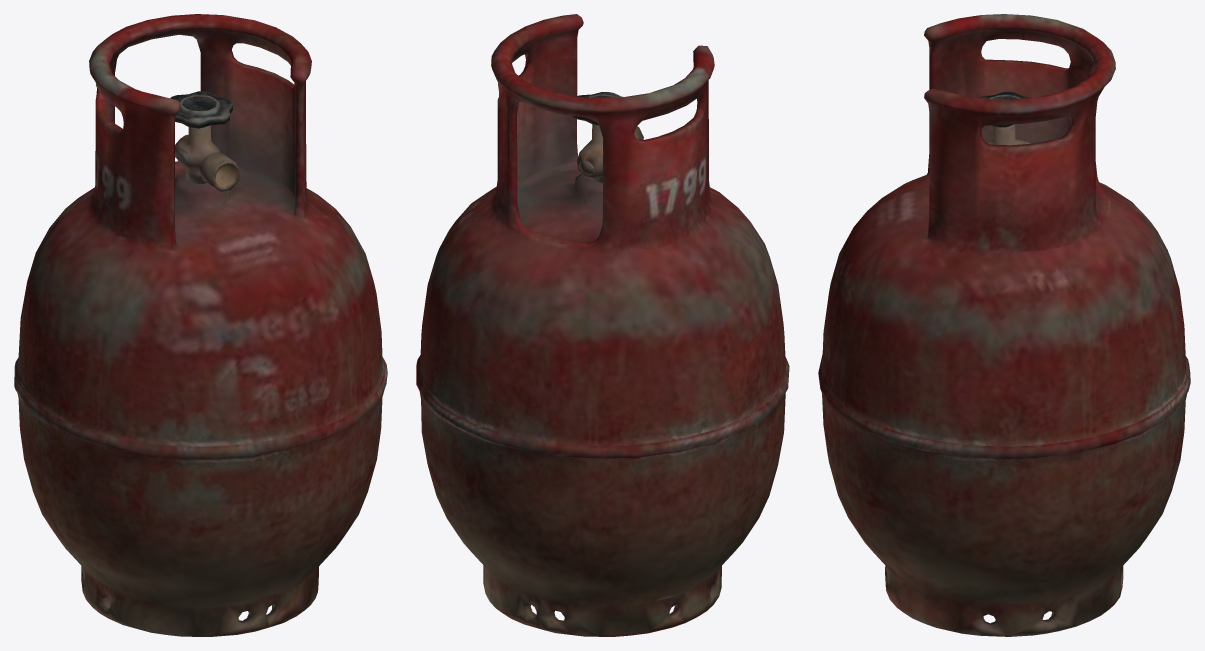
File: tank.glb
The picture shows the model from 3 angles, left to right: view 1: azimuth 30°, elevation 25°; view 2: azimuth 150°, elevation 25°; view 3: azimuth 270°, elevation 25°; orthographic projection.
Parts seen in each view (by area): view 1: small_lpg_tank; view 2: small_lpg_tank; view 3: small_lpg_tank.
Part boxes in pixels (x1=…): small_lpg_tank: x1=14, y1=14, x2=387, y2=636; small_lpg_tank: x1=416, y1=14, x2=789, y2=636; small_lpg_tank: x1=818, y1=14, x2=1190, y2=636.
Size of the model in its own units: 0.4098 by 0.6421 by 0.4093.
Materials: 1 (1 with a texture image).
